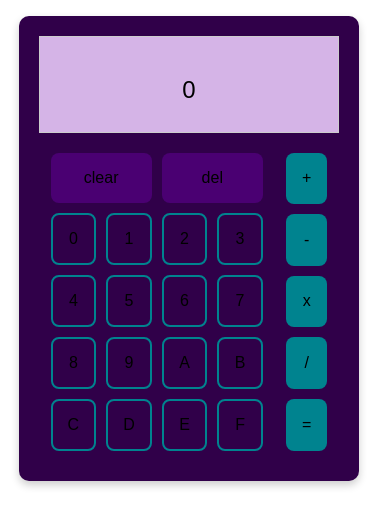
Test: Hex Calculator operations › should click on "1 + 1 =" and have the display show "2"
Click the button "1" at (129, 239), box [106,213,152,265]
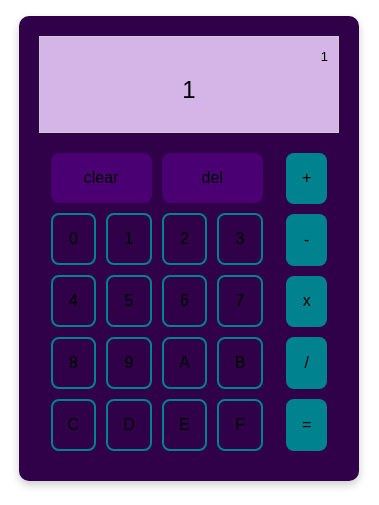
Expected: the text with class "display" reads "1", [182,76,195,103]
Expected: the text with class "small-equation" reads "1", [321,49,328,64]
Click the button "+" at (307, 179), box [286,153,327,205]
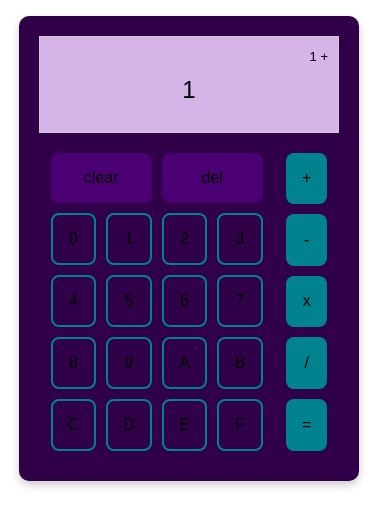
Expected: the text with class "display" reads "1", [182,76,195,103]
Expected: the text with class "small-equation" reads "1 +", [310,49,329,64]
Click the button "1" at (129, 239), box [106,213,152,265]
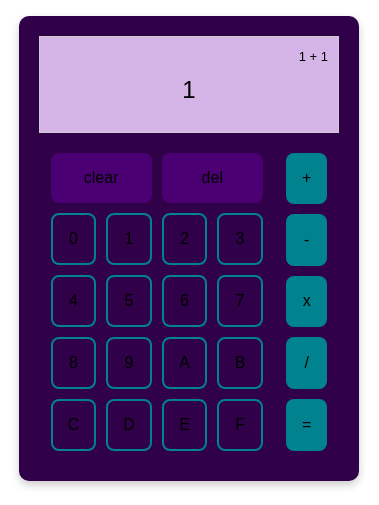
Expected: the text with class "display" reads "1", [182,76,195,103]
Expected: the text with class "small-equation" reads "1 + 1", [299,49,328,64]
Click the button "=" at (307, 425), box [286,399,327,451]
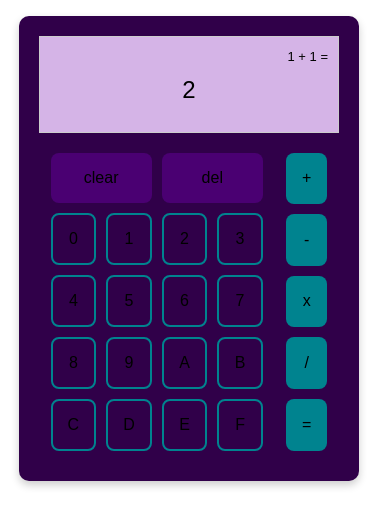
Expected: the text with class "display" reads "2", [182,76,195,103]
Expected: the text with class "small-equation" reads "1 + 1 =", [288,49,329,64]
